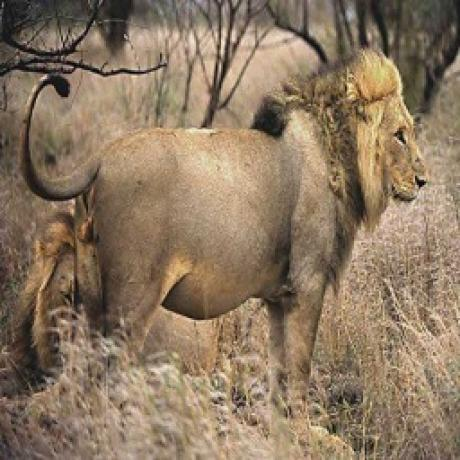Lion: (18, 47, 430, 401), (4, 218, 74, 391)
